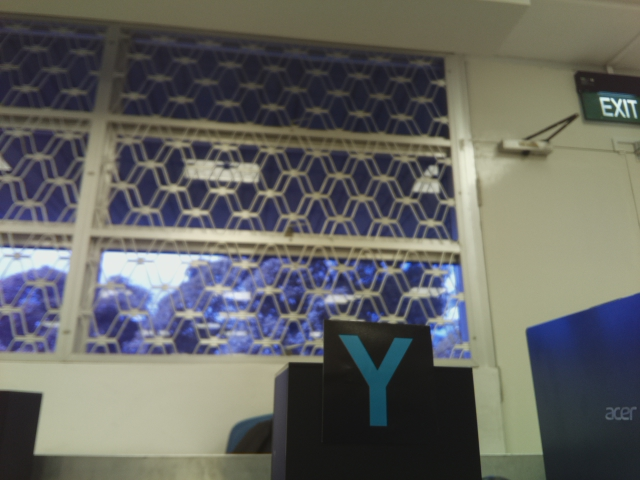y: (336, 330, 417, 422)
